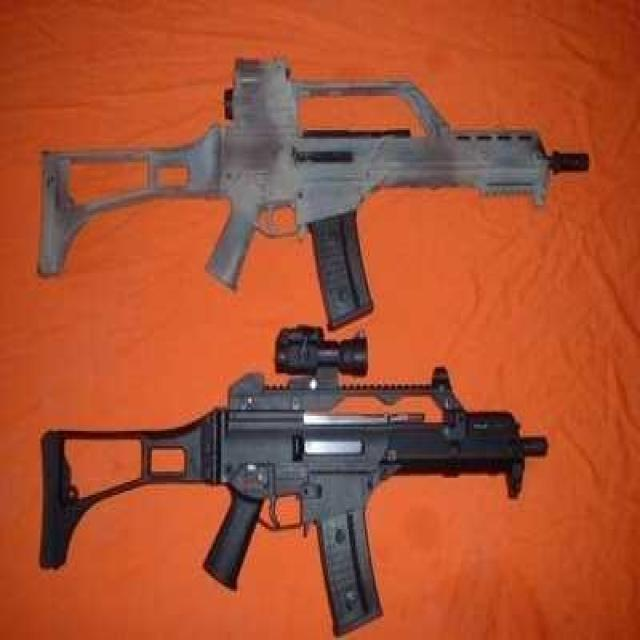heavyweapon: (19, 44, 611, 347), (27, 313, 573, 640)
